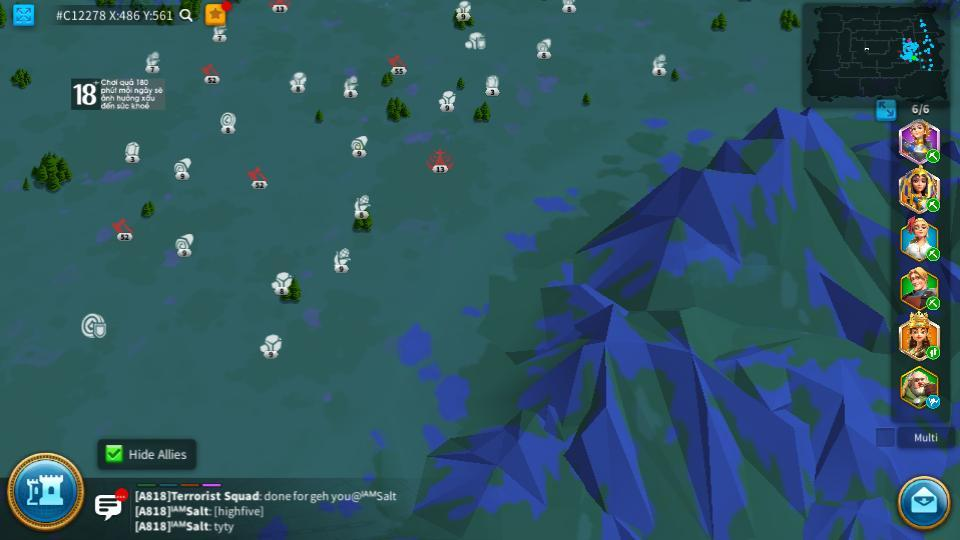gem-z-out: (122, 141, 140, 162), (483, 74, 501, 94)
march_idle: (925, 394, 942, 408)
march_marching: (925, 197, 941, 212), (925, 149, 942, 162), (924, 345, 939, 359), (925, 297, 942, 308)
